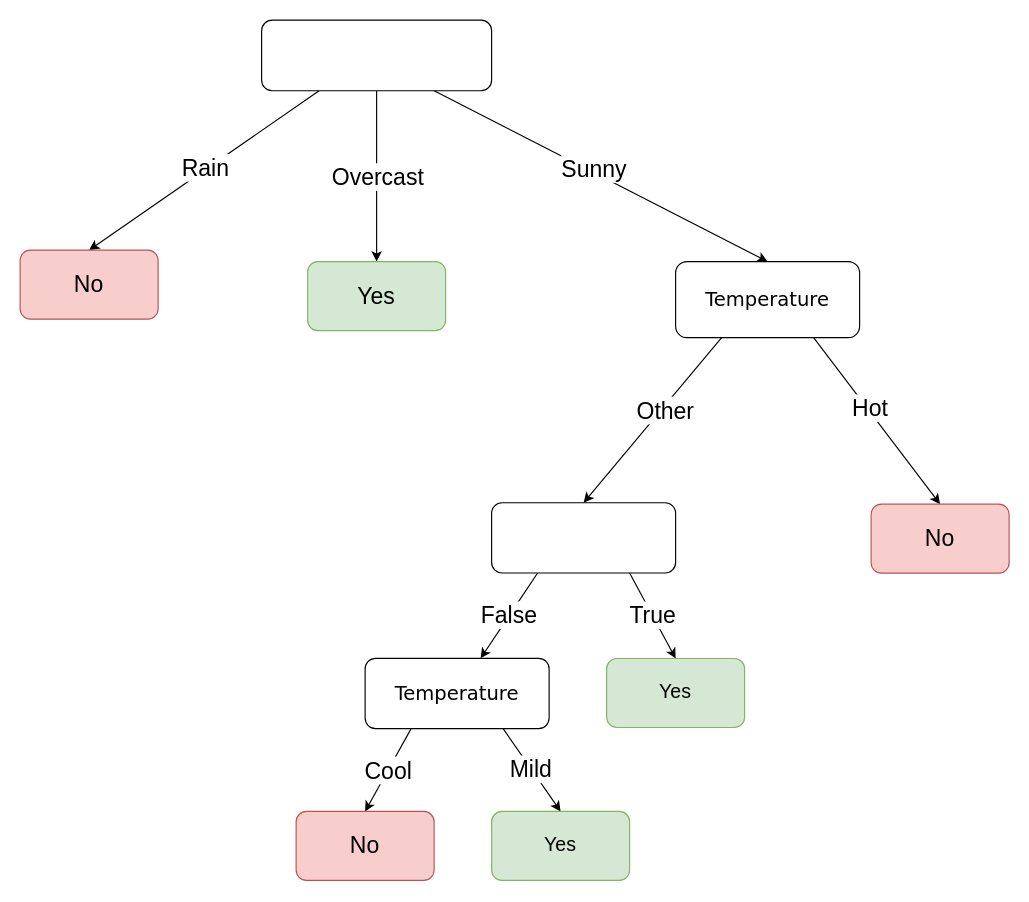
This 1029x902 diagram has some shape labels left out. Here are the shapes that lost their labels. From the top down, the centre of each, then its label:
the point at 376,55: Outlook
the point at 583,537: Windy
